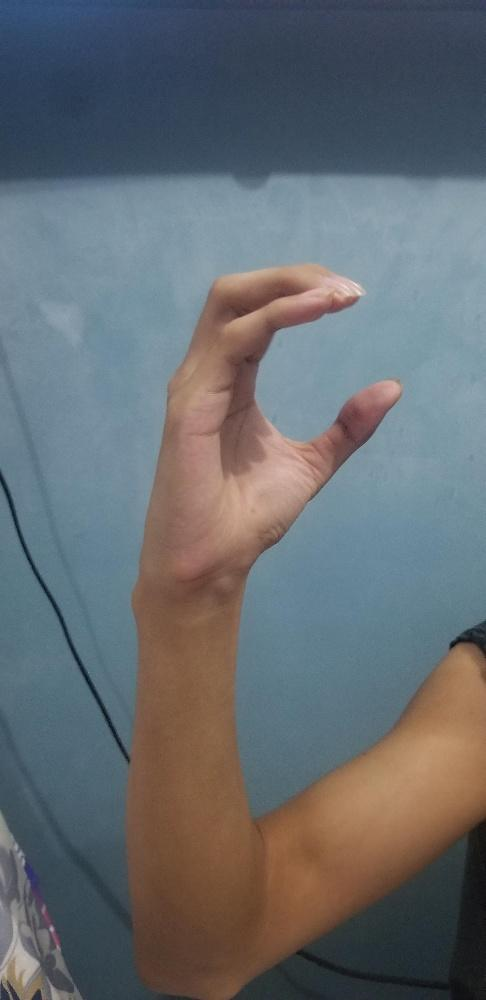c: (127, 261, 405, 616)
